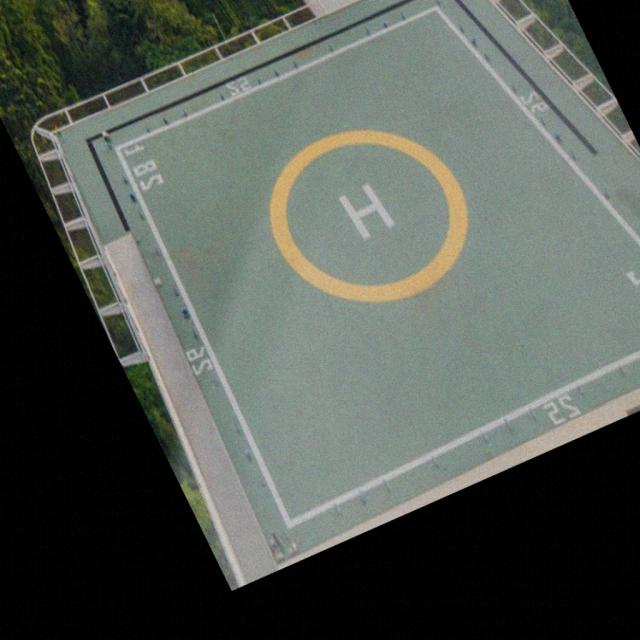helipad: (262, 125, 469, 306)
